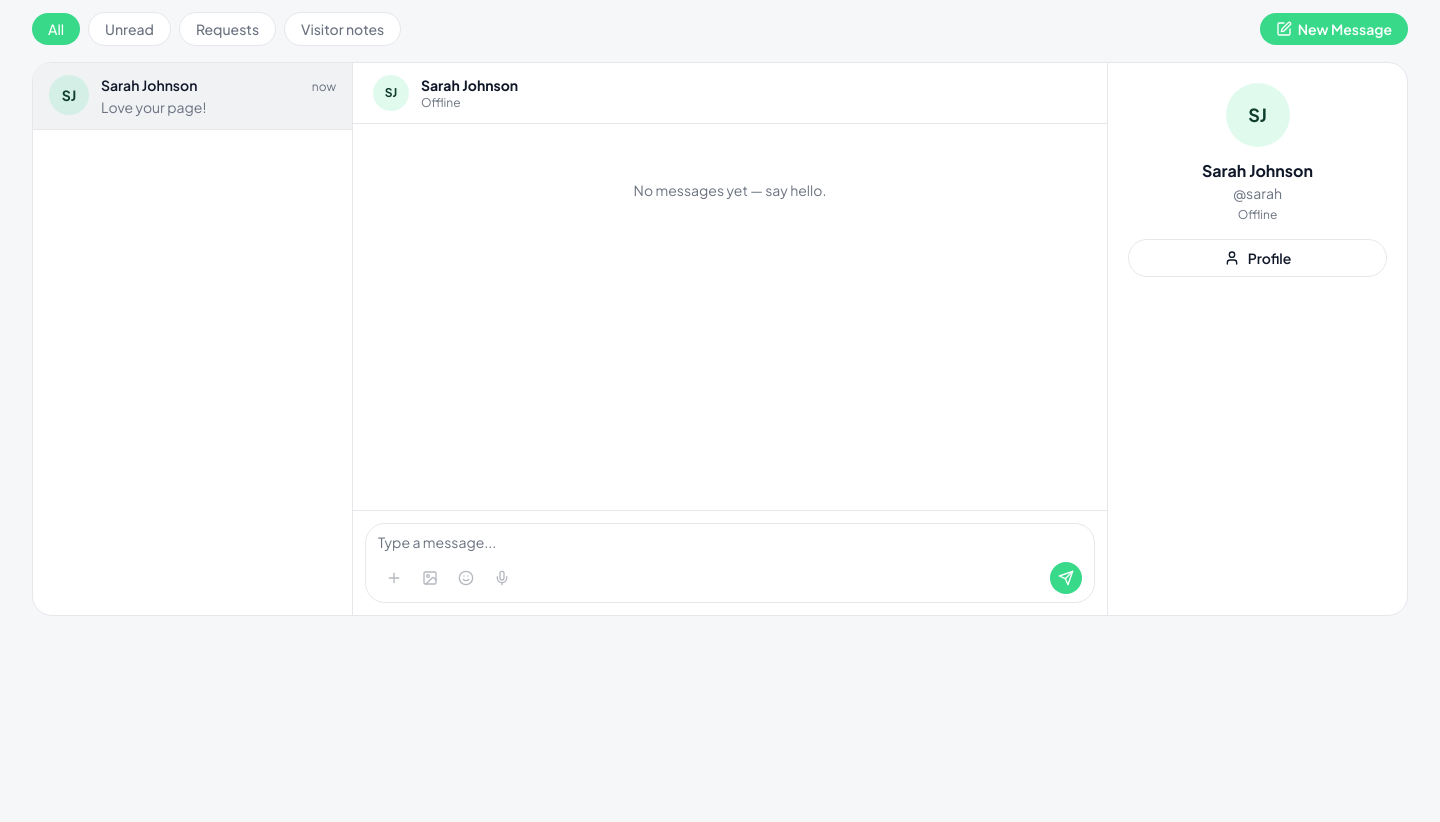
Scenario: MessagesClient › keeps the text and marks the message failed when the send fails
The image size is (1440, 822).
Type "oops" into the text box with placeholder "Type a message..." at (730, 542), box top-left (378, 532), bottom-right (1082, 552)
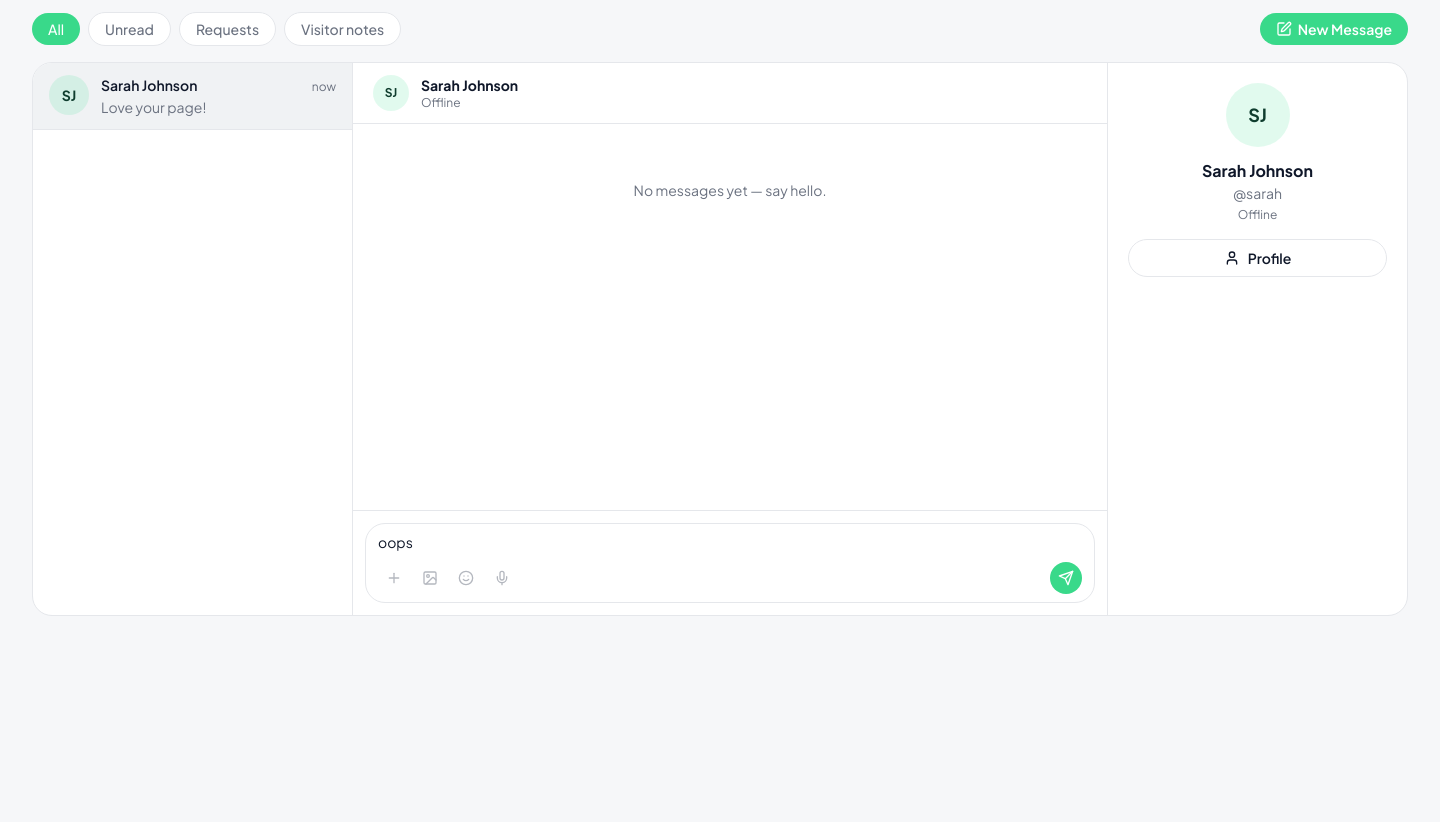
Click the button named "send message" at (1066, 578), box top-left (1050, 562), bottom-right (1082, 594)
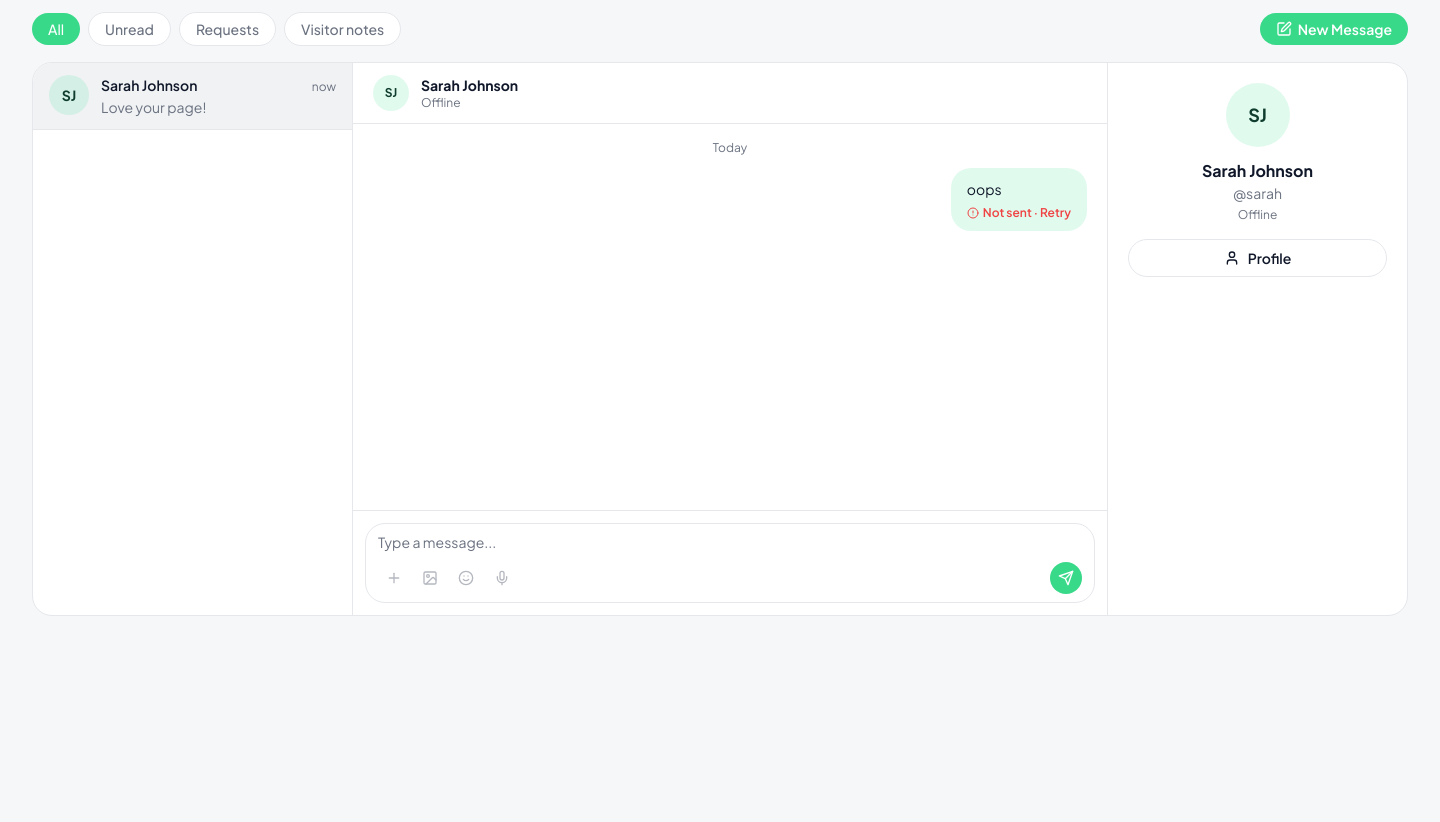
Expected: the button "Not sent · Retry" is shown, top-left (967, 205), bottom-right (1071, 221)
Expected: the text "oops" is shown, top-left (967, 180), bottom-right (1002, 198)
